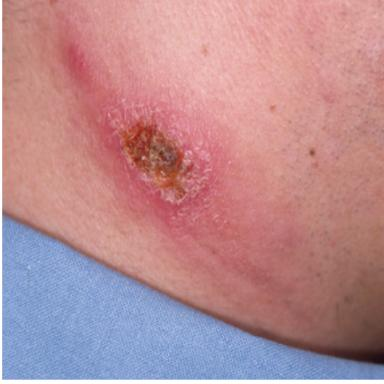Leishmanios: (105, 98, 221, 223)
